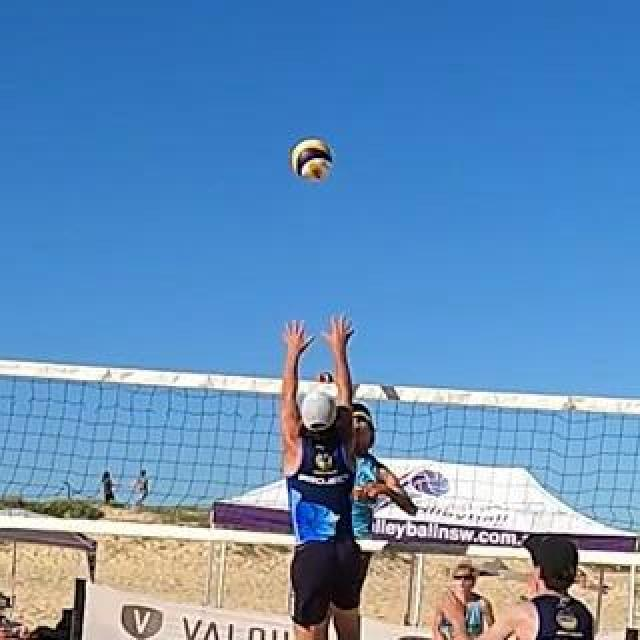volleyball: (294, 142, 332, 182)
